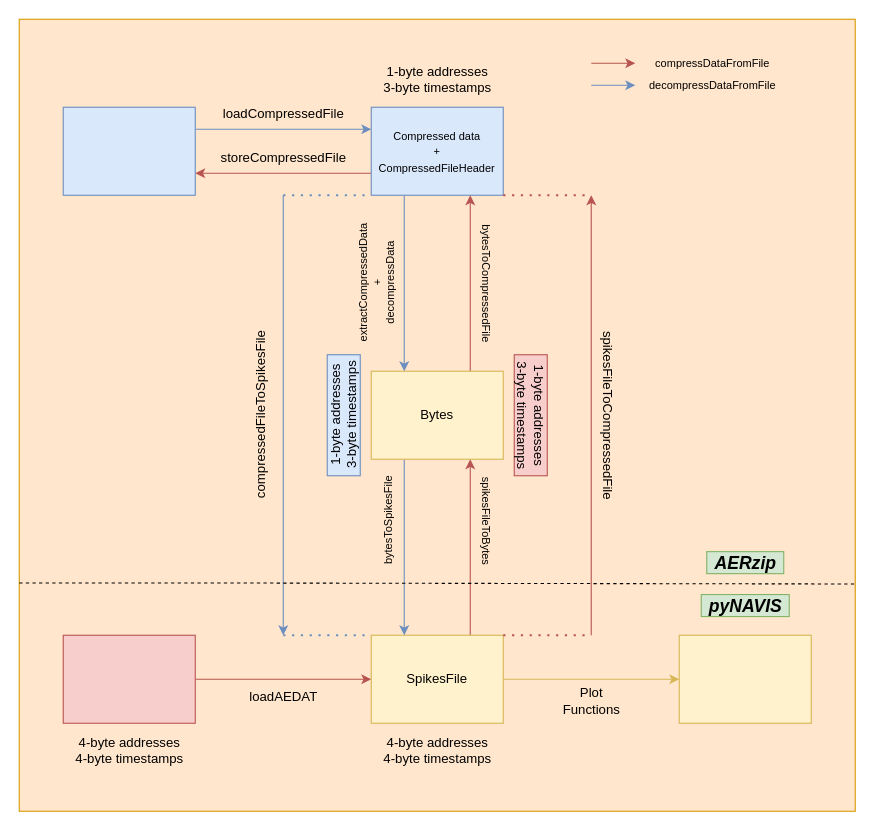
This 876x831 diagram has some shape labels left out. Here are the shapes that lost their labels. From the top down, the centre of each, then its label:
At (x=128, y=150): "Compressed File".
At (x=128, y=678): "Original File".
At (x=744, y=678): "Plots".
